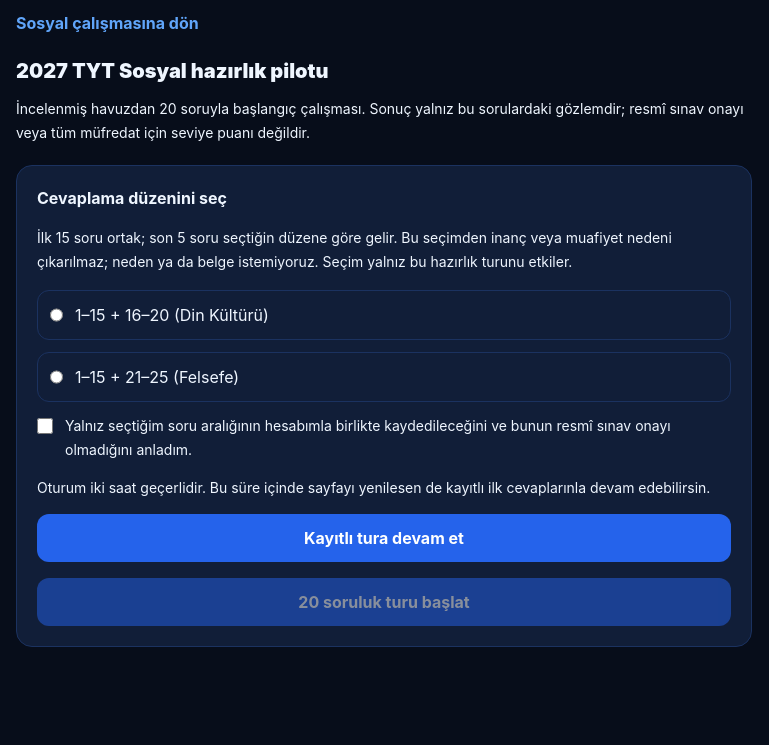
it: preparation learner session › resumes from server first-choice progress without storage of private range
The image size is (769, 745).
What coordinates should you click on to do the following:
click the button "Kayıtlı tura devam et"
I would click on:
 (384, 538)
Its box is [37, 514, 731, 562].
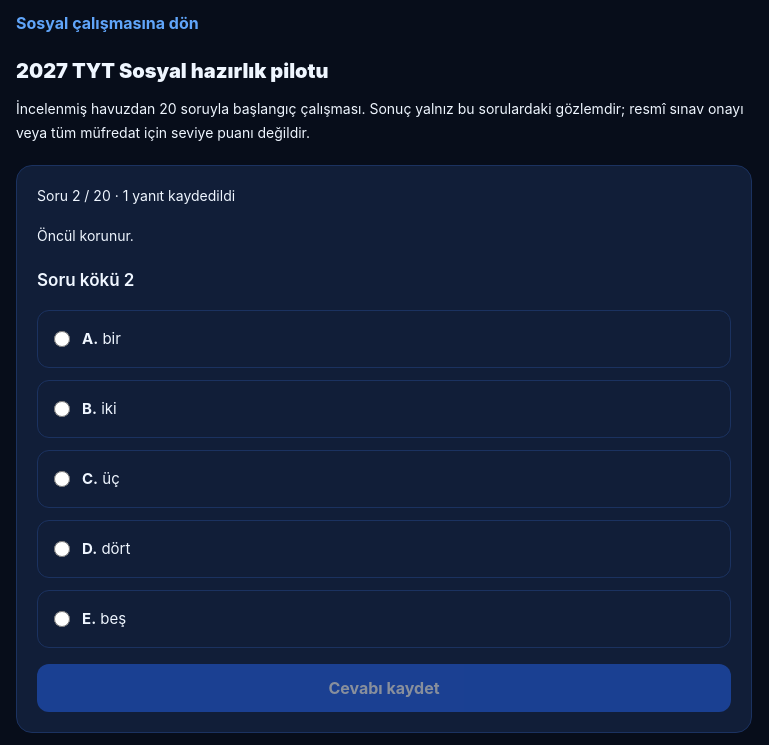
Expected: the text "Soru kökü 2" is shown, [37, 266, 134, 294]
